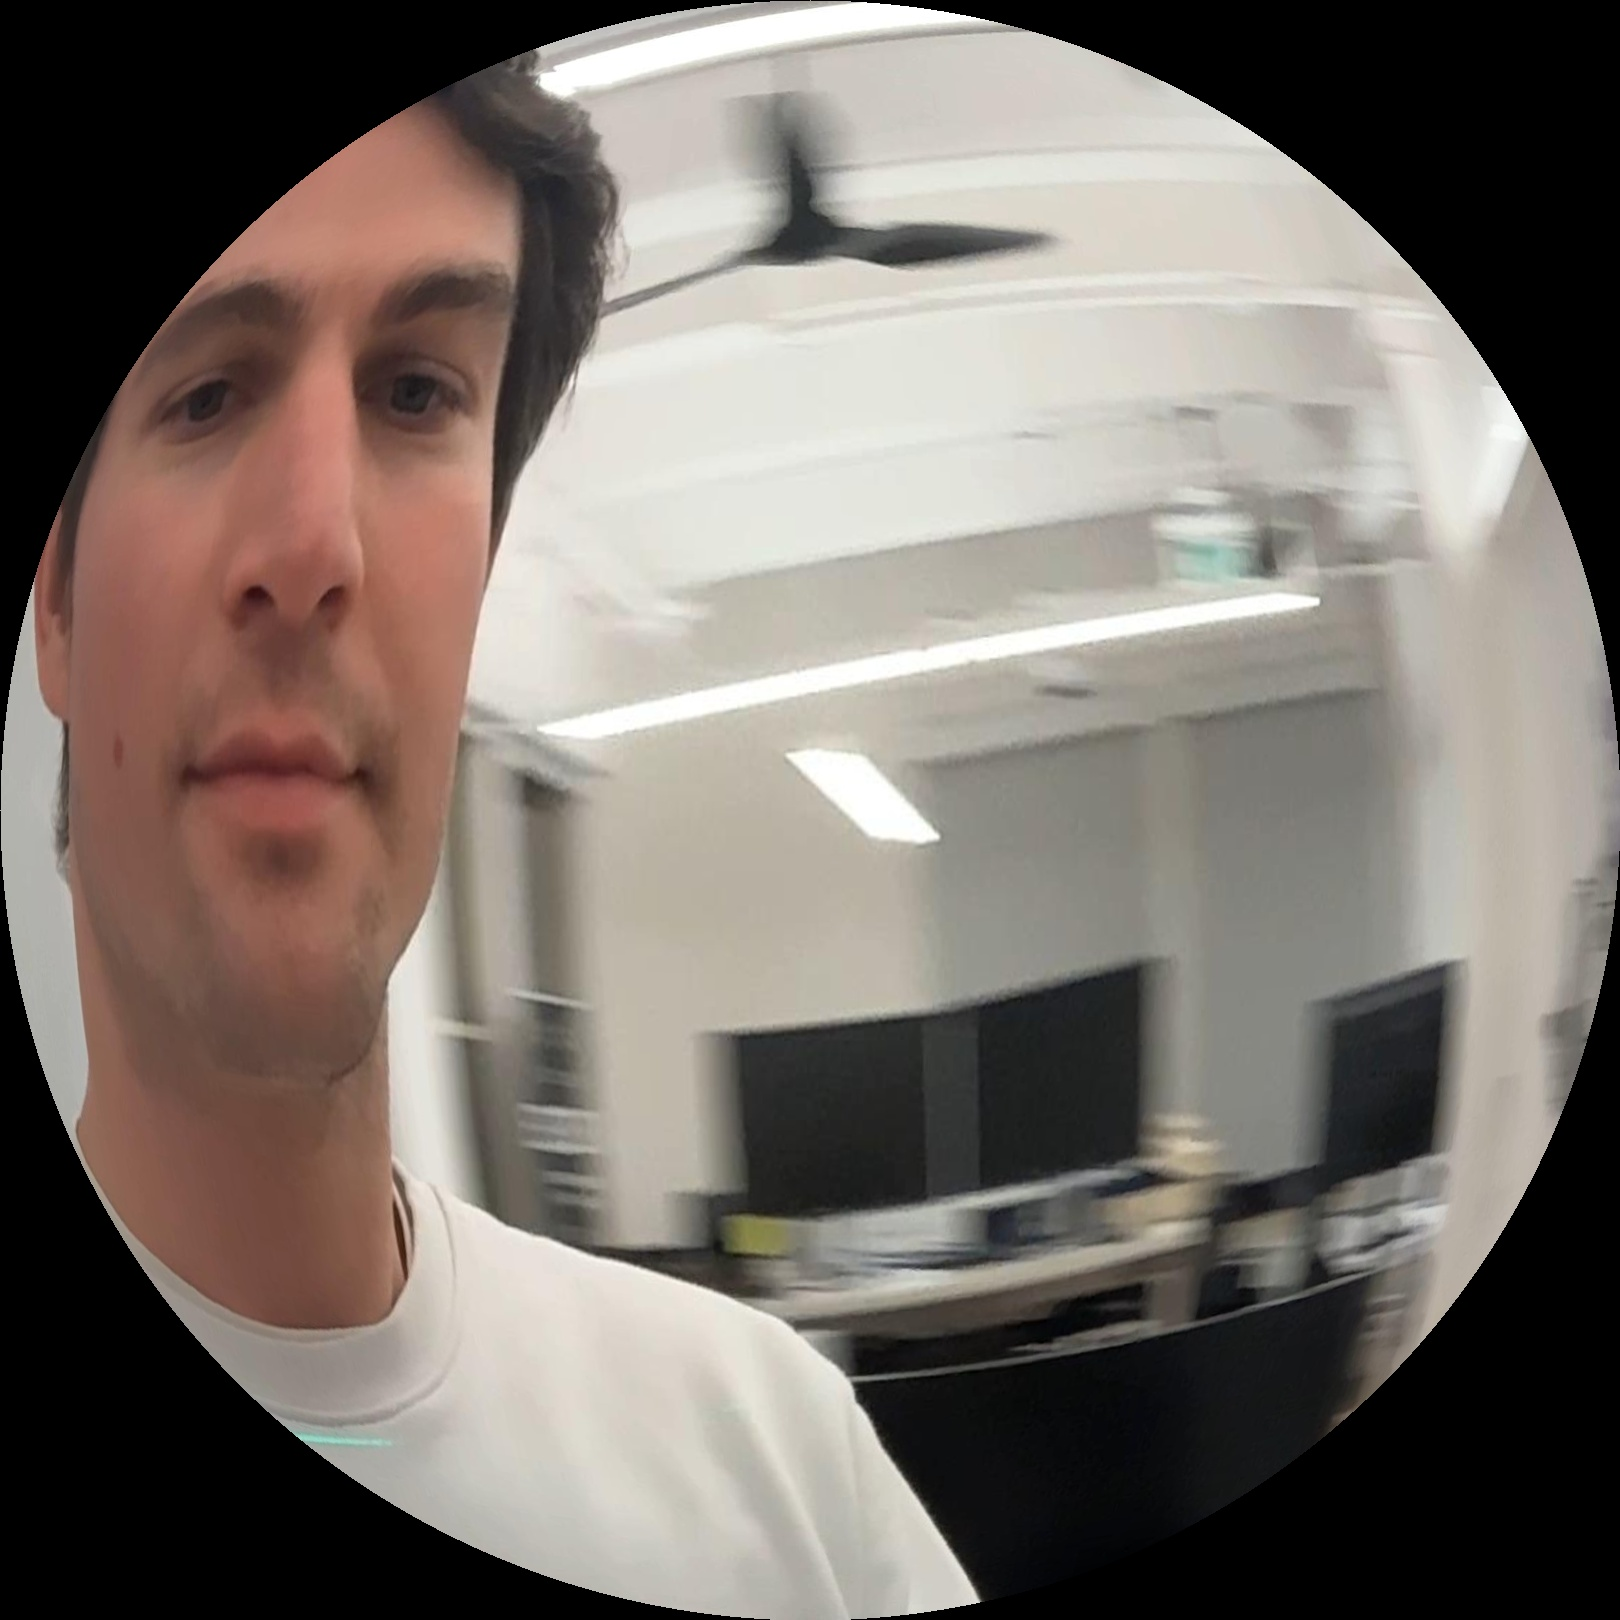face: (51, 56, 577, 1136)
